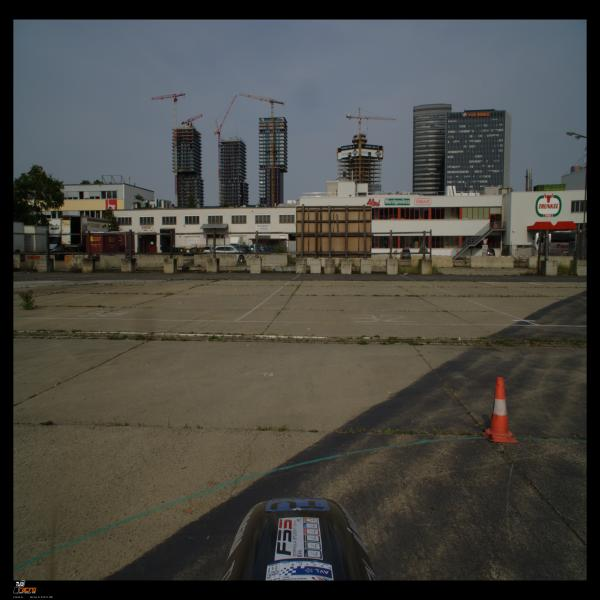orange_cone: (482, 377, 518, 443)
